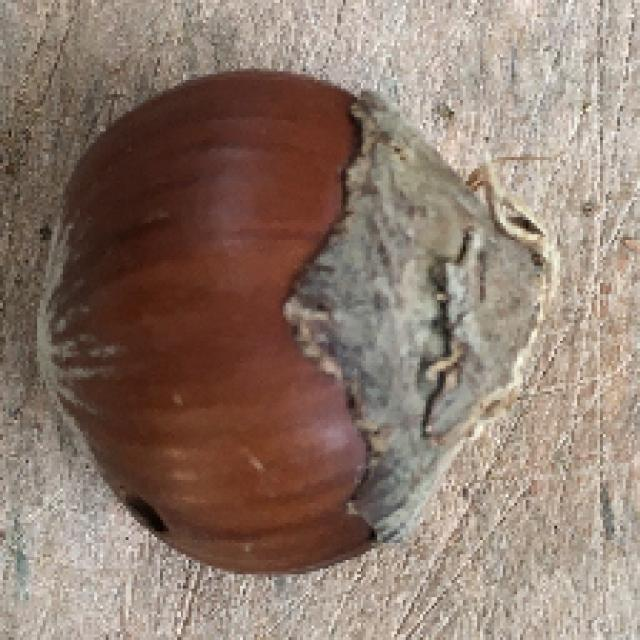damagedHazelnut: (26, 62, 567, 580)
